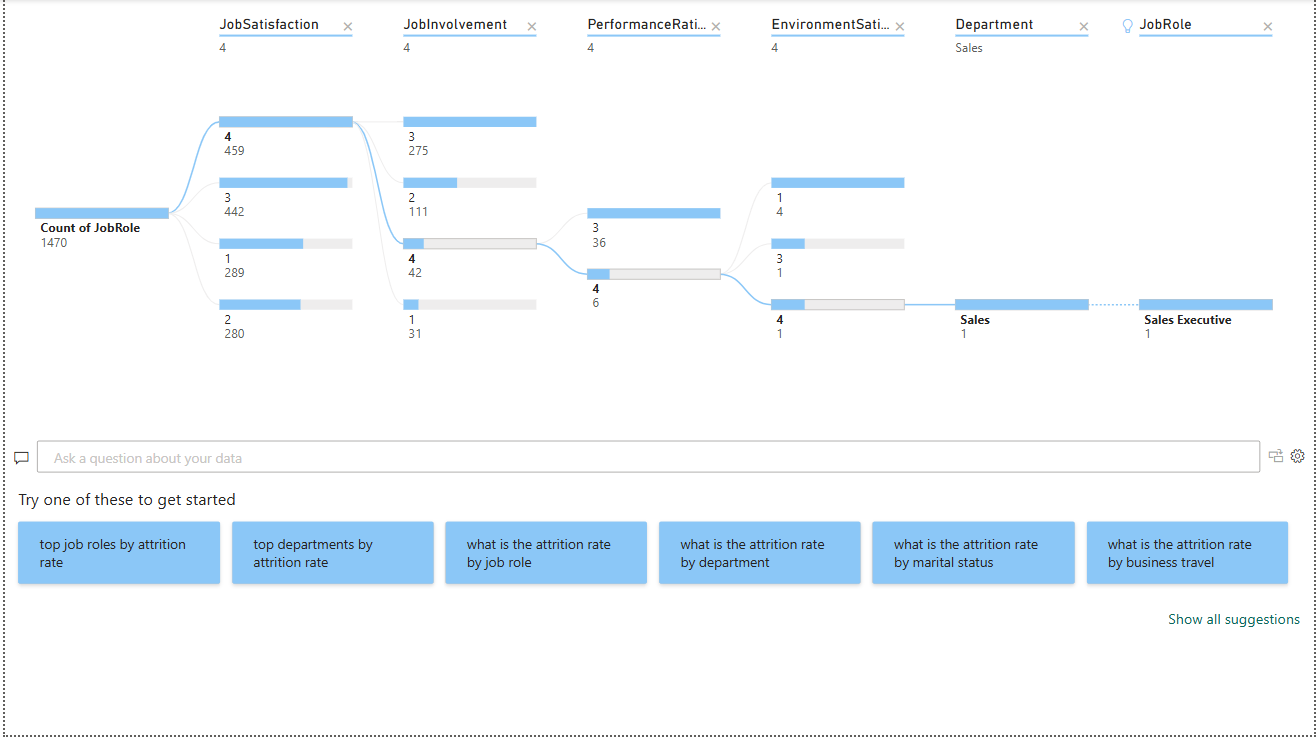

The page's visual inventory and layout, read from the dashboard file:
{"tool":"powerbi","page":{"name":"Page 3","canvas":[1280,720],"ordinal":2},"visuals":[{"type":"decompositionTreeVisual","fields":{"Analyze":["CountNonNull(cleaned_IBM.JobRole)"],"ExplainBy":["cleaned_IBM.JobSatisfaction","cleaned_IBM.JobInvolvement","cleaned_IBM.PerformanceRating","cleaned_IBM.EnvironmentSatisfaction","cleaned_IBM.Department","cleaned_IBM.JobRole"]},"box":[0,0,1280.3,397.4],"z":0},{"type":"qnaVisual","box":[0,407,1280,313],"z":1000}]}

Visuals, with their boxes in screenshot pixels (x1, y1, x2, y2), scaled from the page's 1280x720 canvas onto the 1316x737 screenshot:
decompositionTreeVisual - CountNonNull(cleaned_IBM.JobRole) x cleaned_IBM.JobSatisfaction: bbox=[0, 0, 1315, 407]
qnaVisual: bbox=[0, 417, 1315, 736]
